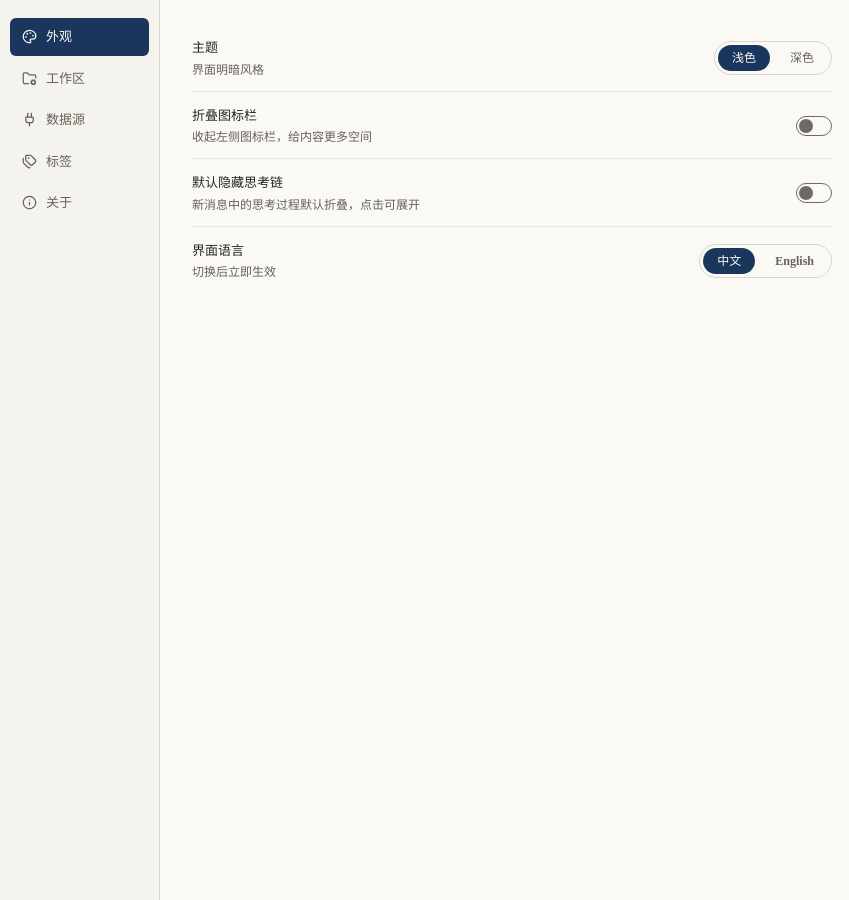
it: 设置页:外观组 › 语言行点「English」:settings.set 以 {language:"en"} 被调,页面文案变英文
Step 1. Click the radio button labelled "English" → point(795, 261), box [761,248,828,274]
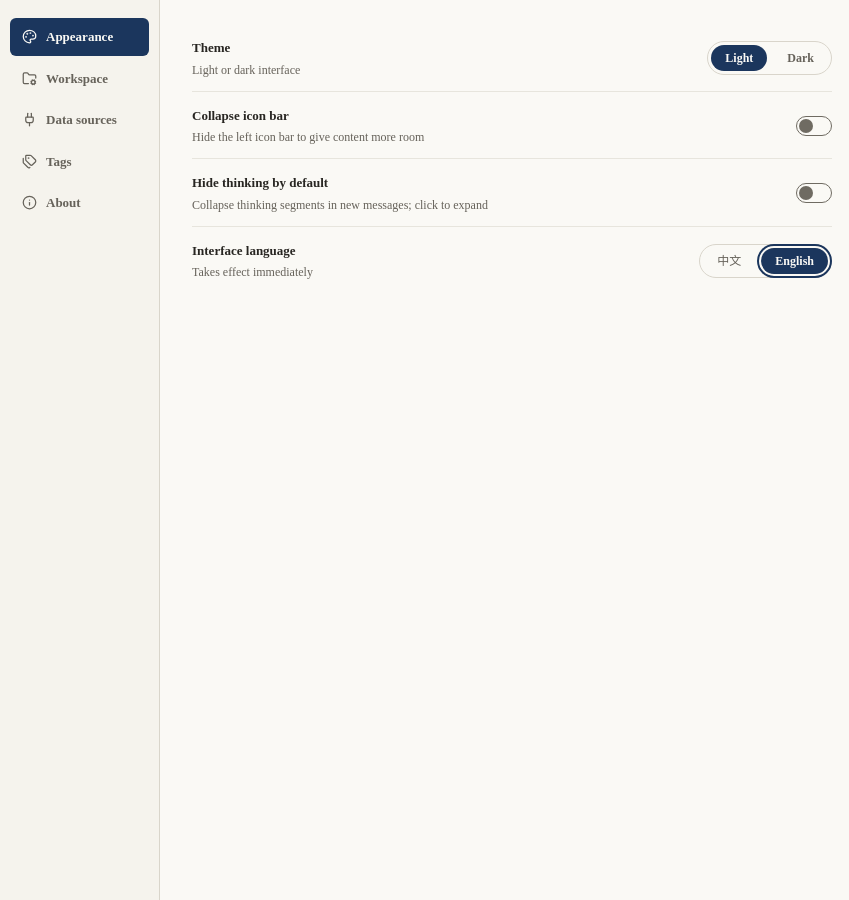
Now the button "Appearance" is shown, box [10,18,149,56]
Now the text "Theme" is shown, box [192,40,230,55]
Now the text "主题" is gone
Step 2. Click the radio button labelled "中文" → point(729, 261), box [703,248,755,274]
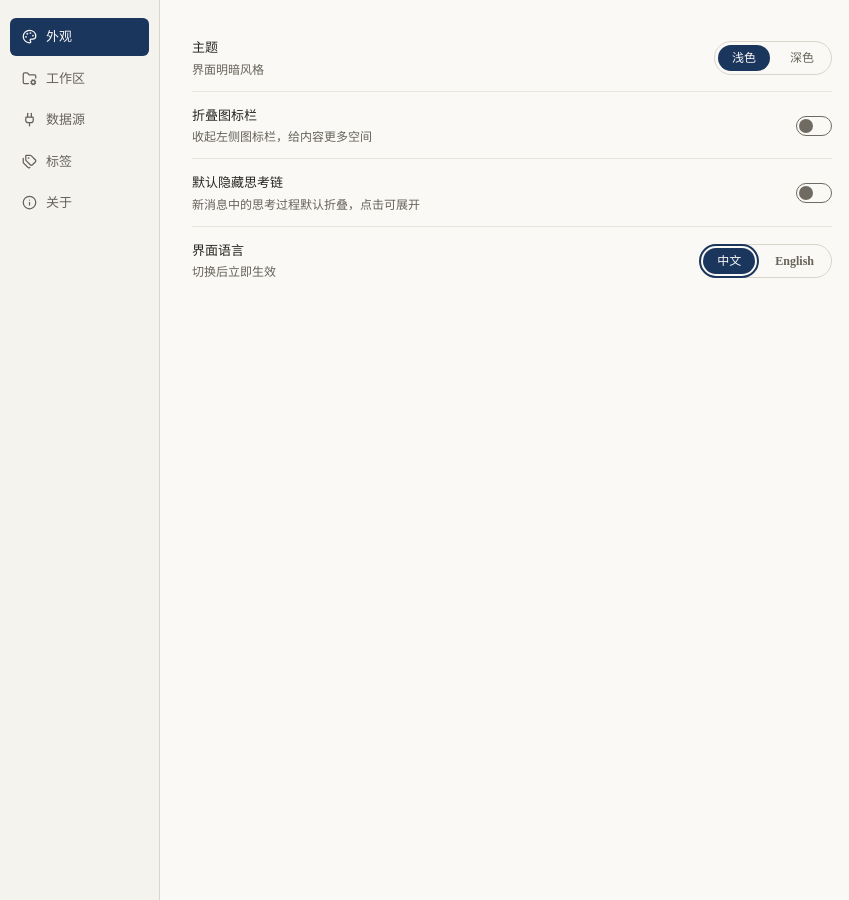
Now the text "主题" is shown, box [192,40,218,55]
